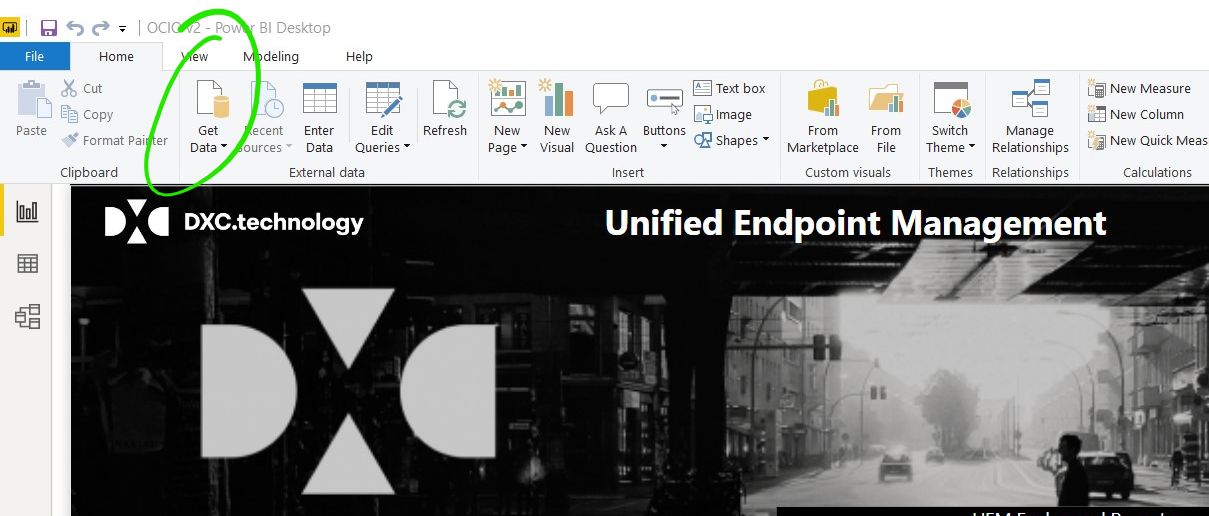DXC: (199, 287, 498, 496), (100, 198, 365, 243)
